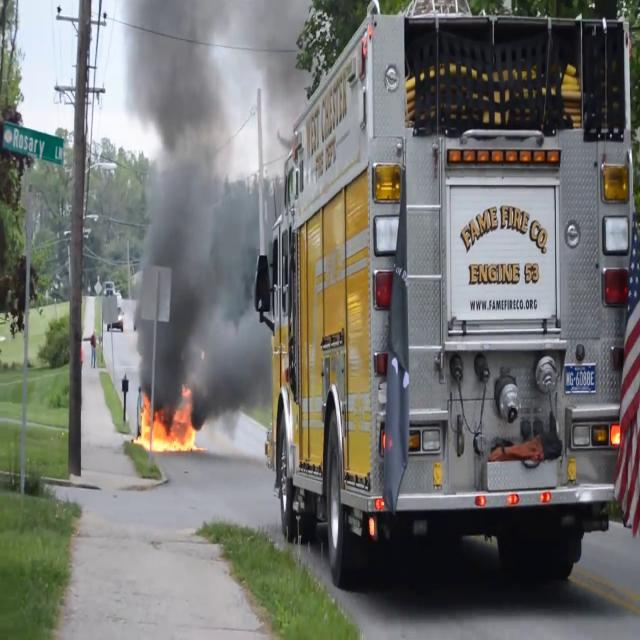Fire: (135, 393, 201, 458)
Smoke: (120, 0, 268, 410)
